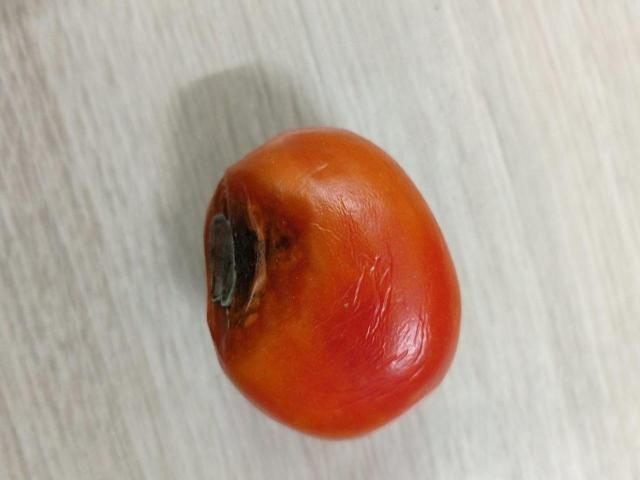defect: (196, 122, 465, 445)
